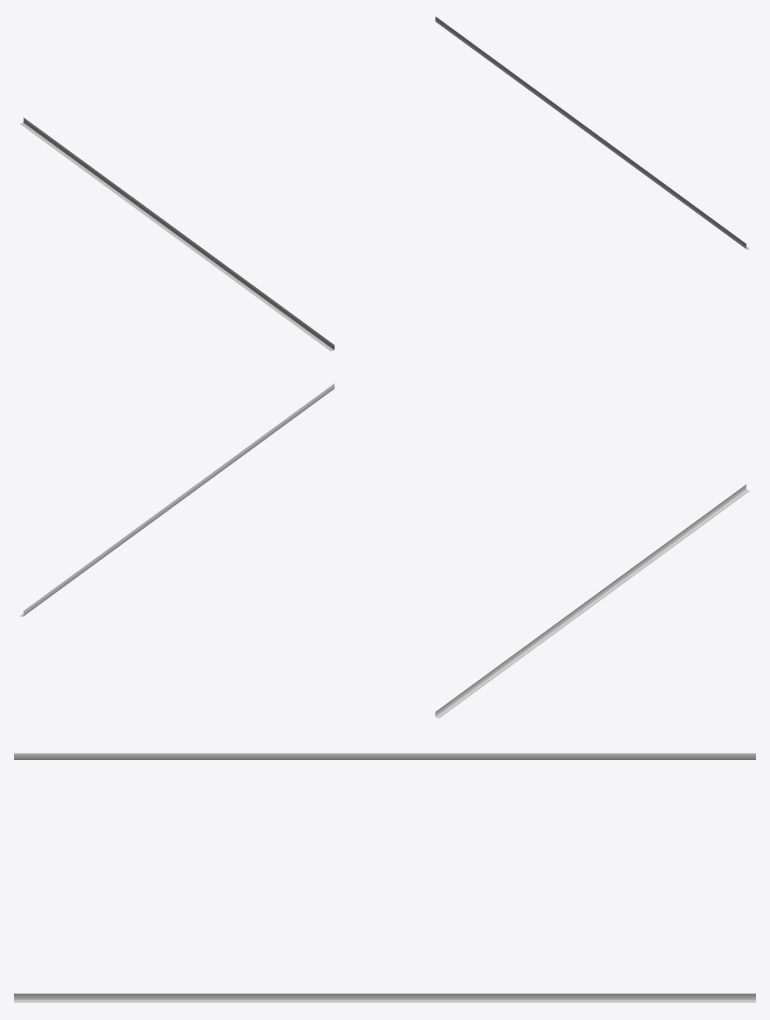
File: GSDTunnel-2L-Lights.FBX
3 renders of one model, top to bottom at view 1: azimuth 30°, elevation 25°; view 2: azimuth 150°, elevation 25°; view 3: azimuth 270°, elevation 25°, orthographic. The views are drawn at different scales.
Parts seen in each view (by area): view 1: GSDTunnel-2L-Lights; view 2: GSDTunnel-2L-Lights; view 3: GSDTunnel-2L-Lights.
Part boxes in pixels (<box>): GSDTunnel-2L-Lights: <box>20,16,749,351</box>; GSDTunnel-2L-Lights: <box>20,383,749,718</box>; GSDTunnel-2L-Lights: <box>14,753,755,1002</box>.
Size of the model in its own units: 16 by 0.21 by 20.
